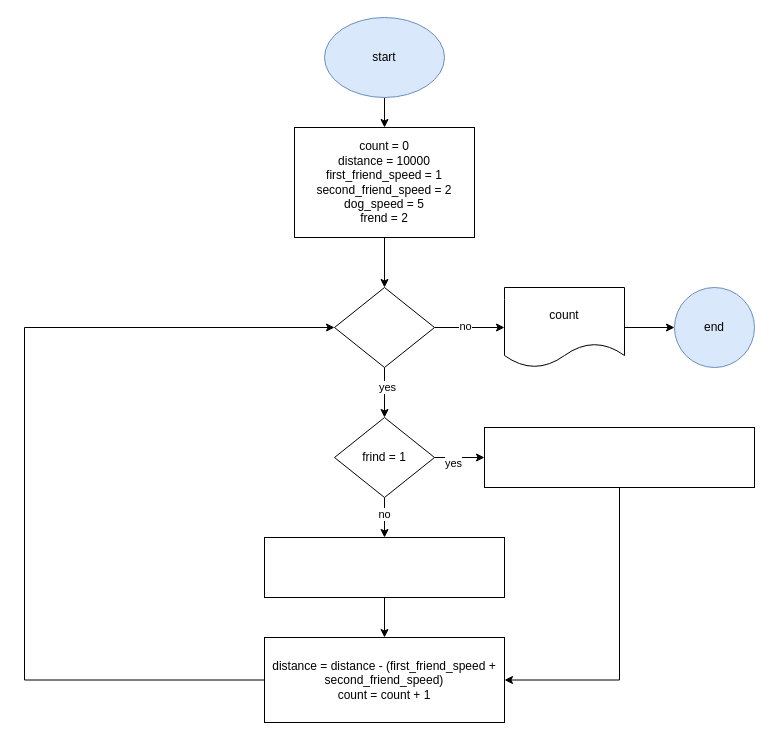
This 772x740 diagram has some shape labels left out. The shapes that lost their labels are listed below. From the top down, each one's centre as x and y in pixels, then its label:
(384,327): distance > 10
(619,457): time = distance / (first_friend_speed + dog_speed) friend = 2
(384,567): time = distance / (second_friend_speed + dog_speed) friend = 1
